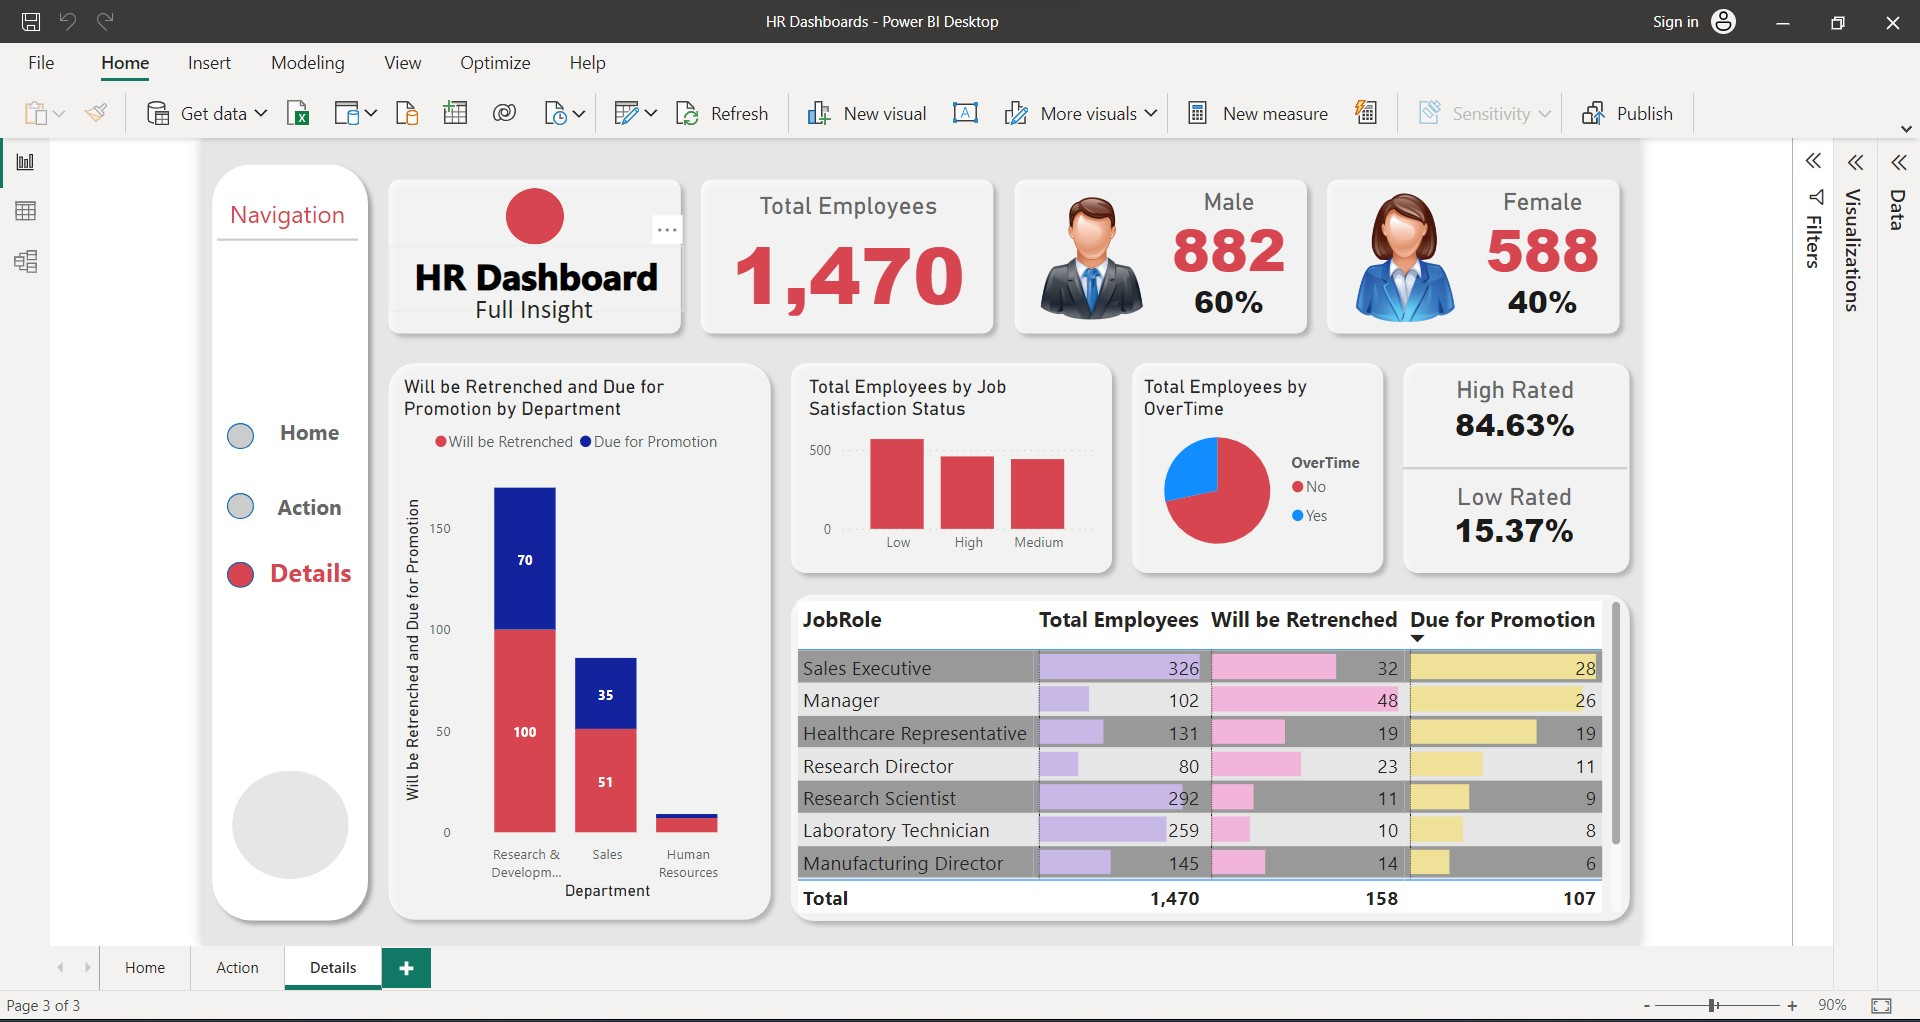

Layout of this report page (visuals, bound fields, positions):
{"tool":"powerbi","page":{"name":"Details","canvas":[1280,720],"ordinal":2},"visuals":[{"type":"shape","box":[0,14.5,156.8,691.1],"z":0},{"type":"shape","box":[156.8,27.7,278.6,155.6],"z":1000},{"type":"shape","box":[435.4,27.7,278.6,155.6],"z":2000},{"type":"shape","box":[714,27.7,278.6,155.6],"z":3000},{"type":"shape","box":[992.6,27.7,278.6,155.6],"z":4000},{"type":"shape","box":[156.8,191.8,358.2,513.8],"z":5000},{"type":"textbox","box":[166.4,95.3,261.7,59.1],"z":6000},{"type":"textbox","box":[165.2,132.7,261.7,50.7],"z":7000},{"type":"shape","box":[270.2,44.6,51.9,50.7],"z":8000},{"type":"card","title":"Total Employees","fields":{"Values":["All Measures.Total Employees"]},"box":[445,48.2,260.5,115.8],"z":9000},{"type":"card","title":"Male","fields":{"Values":["All Measures.Male"]},"box":[853.9,44.6,121.8,80.8],"z":10000},{"type":"card","title":"Male","fields":{"Values":["All Measures.% Male"]},"box":[853.9,106.1,121.8,80.8],"z":11000},{"type":"card","title":"Female","fields":{"Values":["All Measures.Female"]},"box":[1132.5,44.6,121.8,80.8],"z":12000},{"type":"card","title":"Male","fields":{"Values":["All Measures.% Female"]},"box":[1132.5,106.1,121.8,80.8],"z":13000},{"type":"image","box":[729.6,44.6,124.2,124.2],"z":14000},{"type":"image","box":[1010.7,44.6,121.8,124.2],"z":15000},{"type":"columnChart","fields":{"Category":["HR Analytics Data.Department"],"Y":["All Measures.Will be Retrenched","All Measures.Due for Promotion"]},"box":[174.9,211.1,320.8,471.6],"z":16000},{"type":"shape","box":[515,191.8,303.9,205],"z":17000},{"type":"columnChart","fields":{"Category":["HR Analytics Data.Job Satisfaction Status"],"Y":["All Measures.Total Employees"]},"box":[535.5,211.1,265.3,166.4],"z":18000},{"type":"shape","box":[818.9,191.8,241.2,205],"z":19000},{"type":"pieChart","fields":{"Y":["All Measures.Total Employees"],"Category":["HR Analytics Data.OverTime"]},"box":[833.4,211.1,212.3,166.4],"z":20000},{"type":"shape","box":[1060.1,191.8,219.5,205],"z":21000},{"type":"shape","box":[1069.7,291.9,199,4.8],"z":22000},{"type":"card","title":"High Rated","fields":{"Values":["All Measures.% High Rate"]},"box":[1068.5,211.1,201.4,65.1],"z":23000},{"type":"card","title":"Low Rated","fields":{"Values":["All Measures.% Low Rating"]},"box":[1068.5,307.5,200.2,61.5],"z":24000},{"type":"shape","box":[515,396.8,764.6,308.7],"z":25000},{"type":"tableEx","fields":{"Values":["HR Analytics Data.JobRole","All Measures.Total Employees","All Measures.Will be Retrenched","All Measures.Due for Promotion"]},"box":[524.6,407.6,744.1,287],"z":26000},{"type":"textbox","box":[13.3,48.2,125.4,47],"z":27000},{"type":"shape","box":[13.3,85.6,125.4,9.6],"z":28000},{"type":"shape","box":[21.7,253.3,24.1,22.9],"z":29000},{"type":"shape","box":[21.7,316,24.1,22.9],"z":30000},{"type":"shape","box":[21.7,377.5,24.1,22.9],"z":31000},{"type":"actionButton","title":"Home","box":[45.8,249.6,100.1,54.3],"z":32000},{"type":"actionButton","title":"Action","box":[45.8,316,100.1,53.1],"z":33000},{"type":"actionButton","title":"Details","box":[47,370.3,100.1,37.4],"z":34000},{"type":"shape","box":[26.5,563.2,103.7,96.5],"z":34001}]}

Visuals, with their boxes on the page's 1280x720 design canvas (x1, y1, x2, y2). These are canvas units, not pixel positions in the 1920x1022 screenshot, which may show the page scaled, cropped or inside an application window:
shape: [0, 14, 157, 706]
shape: [157, 28, 435, 183]
shape: [435, 28, 714, 183]
shape: [714, 28, 993, 183]
shape: [993, 28, 1271, 183]
shape: [157, 192, 515, 706]
textbox: [166, 95, 428, 154]
textbox: [165, 133, 427, 183]
shape: [270, 45, 322, 95]
"Total Employees" card: [445, 48, 706, 164]
"Male" card: [854, 45, 976, 125]
"Male" card: [854, 106, 976, 187]
"Female" card: [1132, 45, 1254, 125]
"Male" card: [1132, 106, 1254, 187]
image: [730, 45, 854, 169]
image: [1011, 45, 1132, 169]
columnChart - HR Analytics Data.Department x All Measures.Will be Retrenched: [175, 211, 496, 683]
shape: [515, 192, 819, 397]
columnChart - HR Analytics Data.Job Satisfaction Status x All Measures.Total Employees: [536, 211, 801, 378]
shape: [819, 192, 1060, 397]
pieChart - All Measures.Total Employees x HR Analytics Data.OverTime: [833, 211, 1046, 378]
shape: [1060, 192, 1280, 397]
shape: [1070, 292, 1269, 297]
"High Rated" card: [1068, 211, 1270, 276]
"Low Rated" card: [1068, 308, 1269, 369]
shape: [515, 397, 1280, 706]
tableEx - HR Analytics Data.JobRole x All Measures.Total Employees: [525, 408, 1269, 695]
textbox: [13, 48, 139, 95]
shape: [13, 86, 139, 95]
shape: [22, 253, 46, 276]
shape: [22, 316, 46, 339]
shape: [22, 378, 46, 400]
"Home" actionButton: [46, 250, 146, 304]
"Action" actionButton: [46, 316, 146, 369]
"Details" actionButton: [47, 370, 147, 408]
shape: [26, 563, 130, 660]
